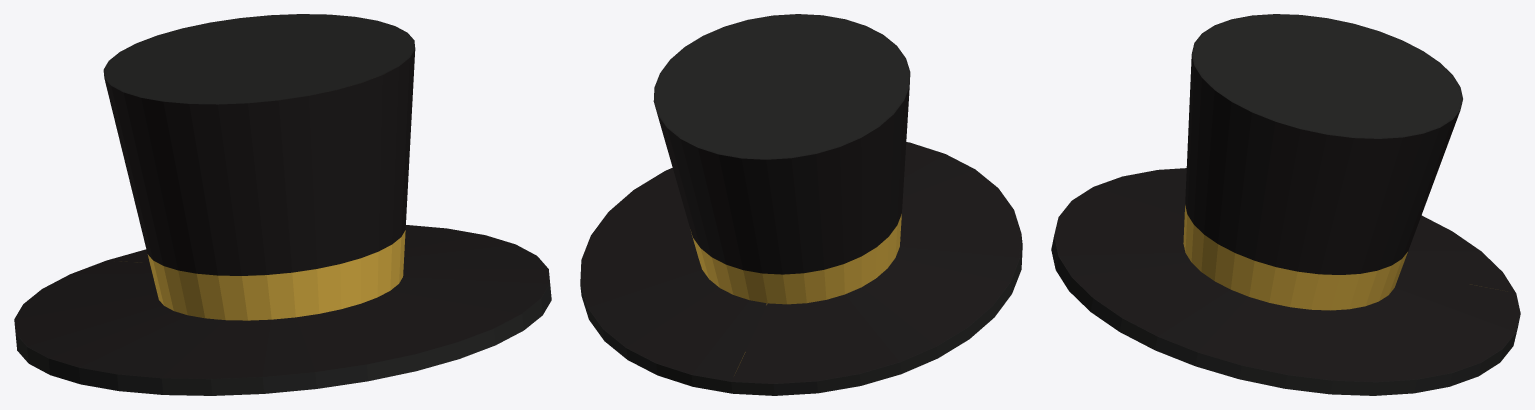
The model's file is Hat4.glb.
The picture shows the model from 3 angles, left to right: view 1: azimuth 30°, elevation 25°; view 2: azimuth 150°, elevation 25°; view 3: azimuth 270°, elevation 25°; orthographic projection. The views are drawn at different scales.
Parts seen in each view (by area): view 1: top-hat; view 2: top-hat; view 3: top-hat.
Part boxes in pixels (x1,y1,x2,y2): top-hat: (14,14,551,395); top-hat: (580,14,1022,395); top-hat: (1051,14,1520,395).
Bounding box in the file's own units: 0.2386 × 0.1516 × 0.2361.
1 material, 1 textured.
